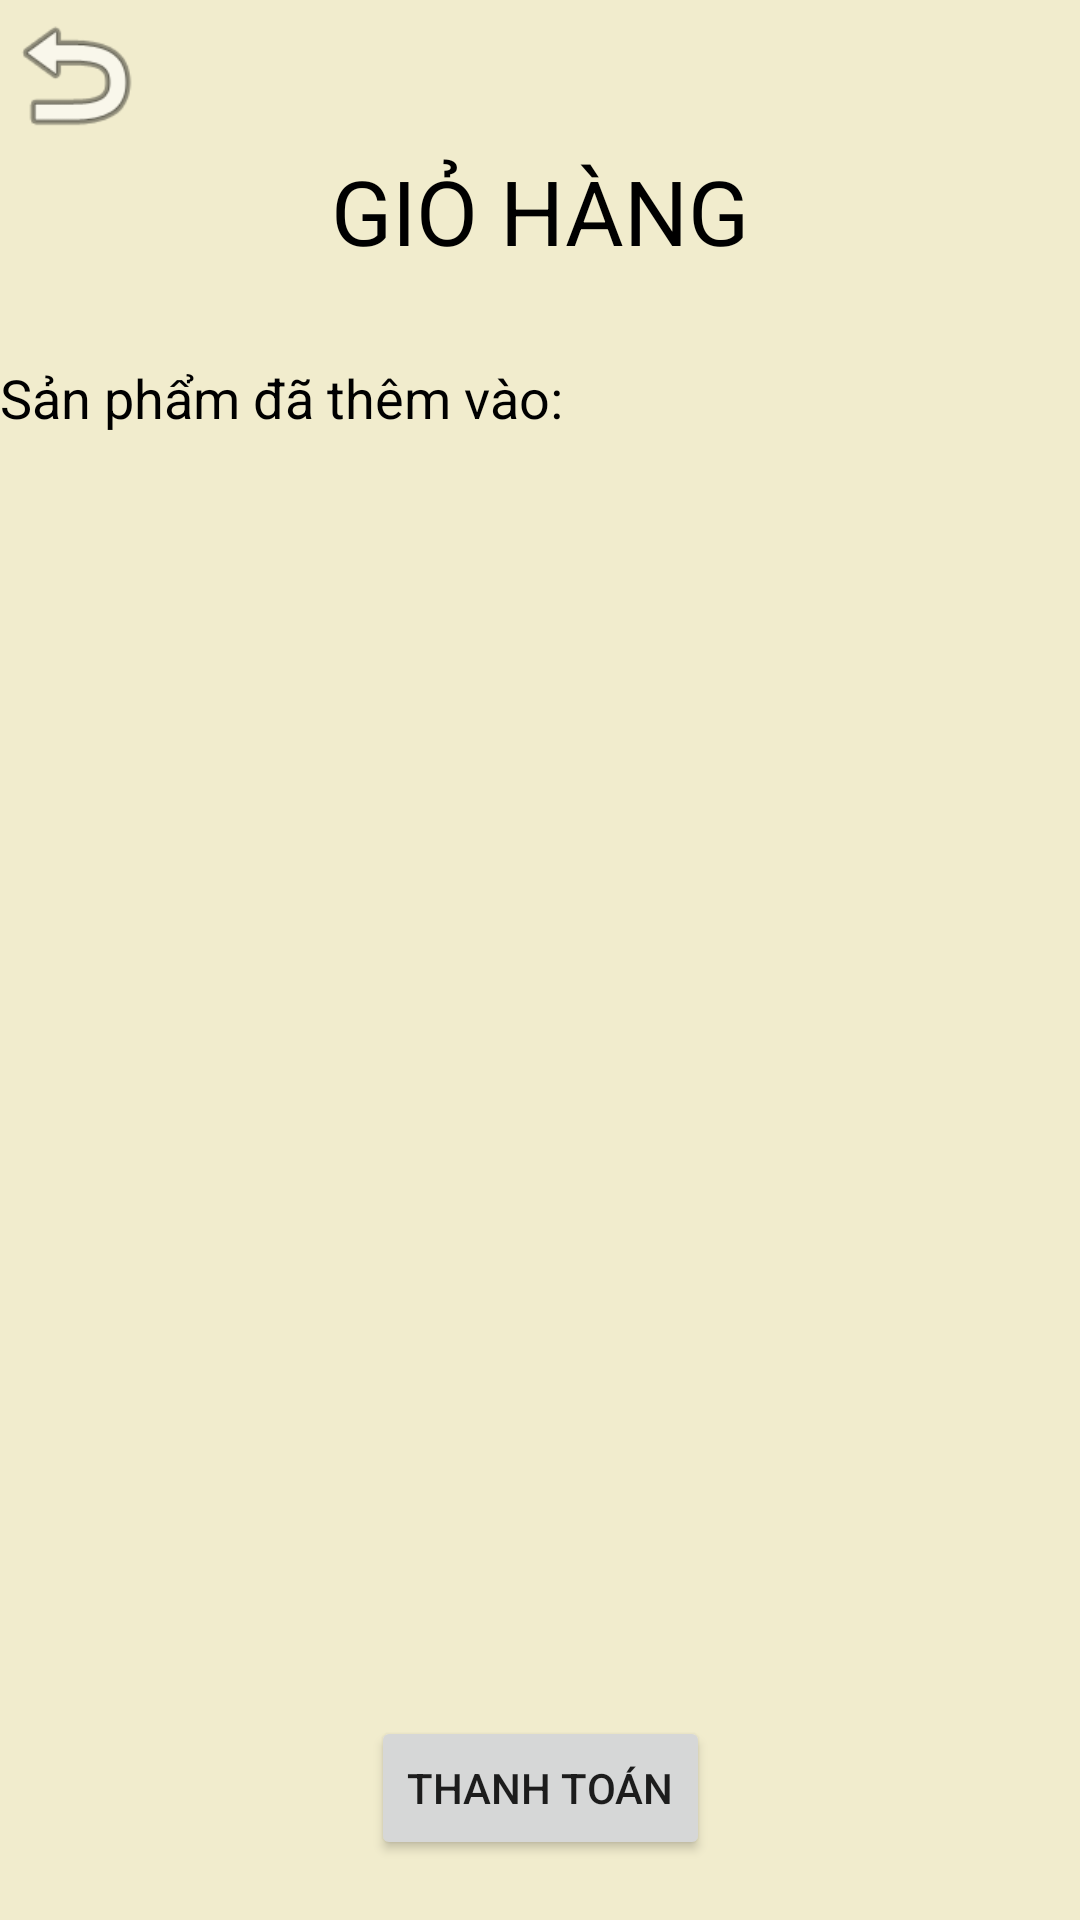

Named icons in this screenshot (1080px×1920px) and their bounding boxes, (x1=x1, y1=y1, x2=x2, y2=y2):
revert: (x1=23, y1=27, x2=131, y2=125)
